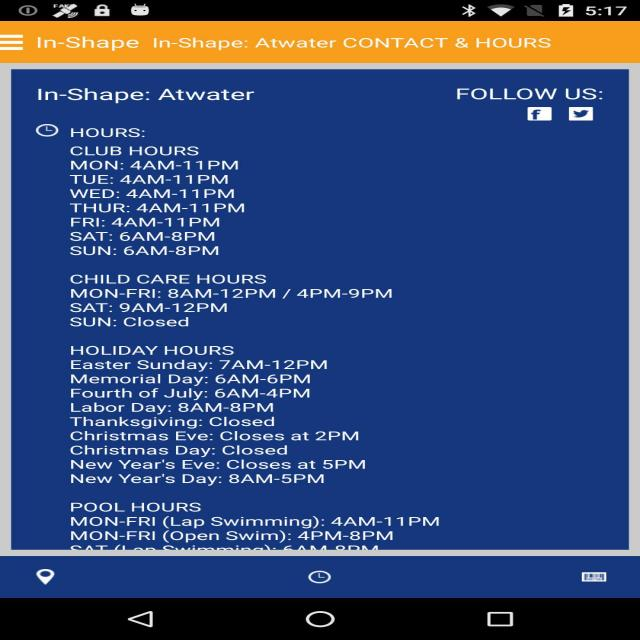button: (20, 566, 84, 594), (114, 610, 180, 630), (296, 612, 361, 632), (563, 568, 620, 588), (298, 568, 354, 588), (472, 610, 527, 628), (0, 28, 31, 58), (568, 106, 599, 125), (527, 108, 556, 124)
icon: (22, 120, 68, 141)
text: (69, 124, 470, 553), (35, 30, 579, 56), (31, 77, 312, 115), (432, 86, 620, 104)
